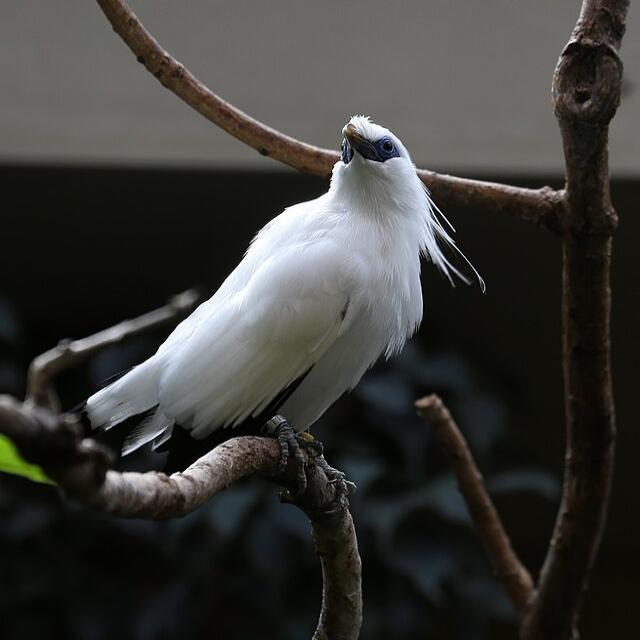Jalak Bali: (31, 75, 516, 512)
